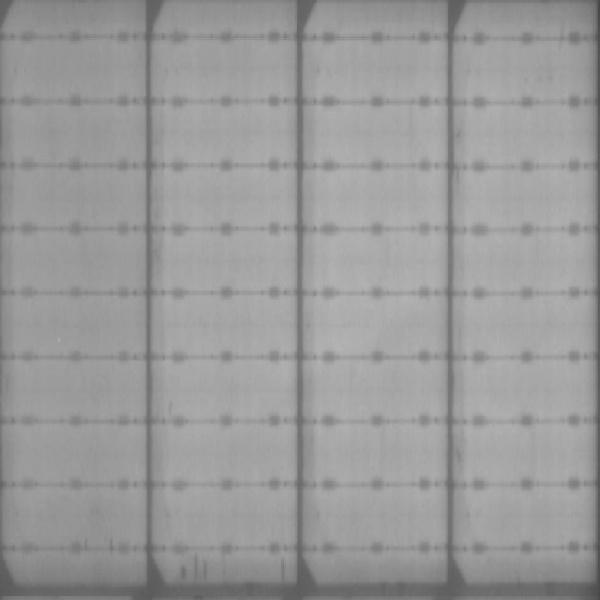scratch: (173, 557, 291, 585)
